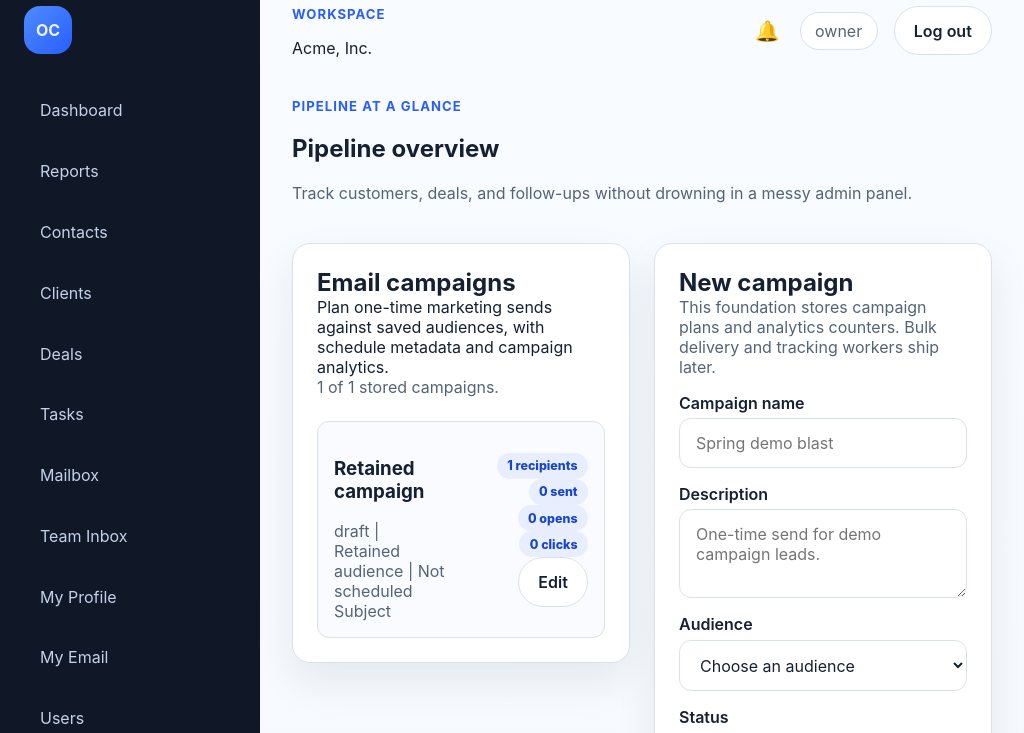
settings marketing email campaigns route › disables only new creation at the server-disclosed capacity
Expected: the text "1 of 1 stored campaigns." is shown, [317,377,499,397]
Click the button "Edit" at (553, 582), box [518,557,588,606]
(page scrolled)
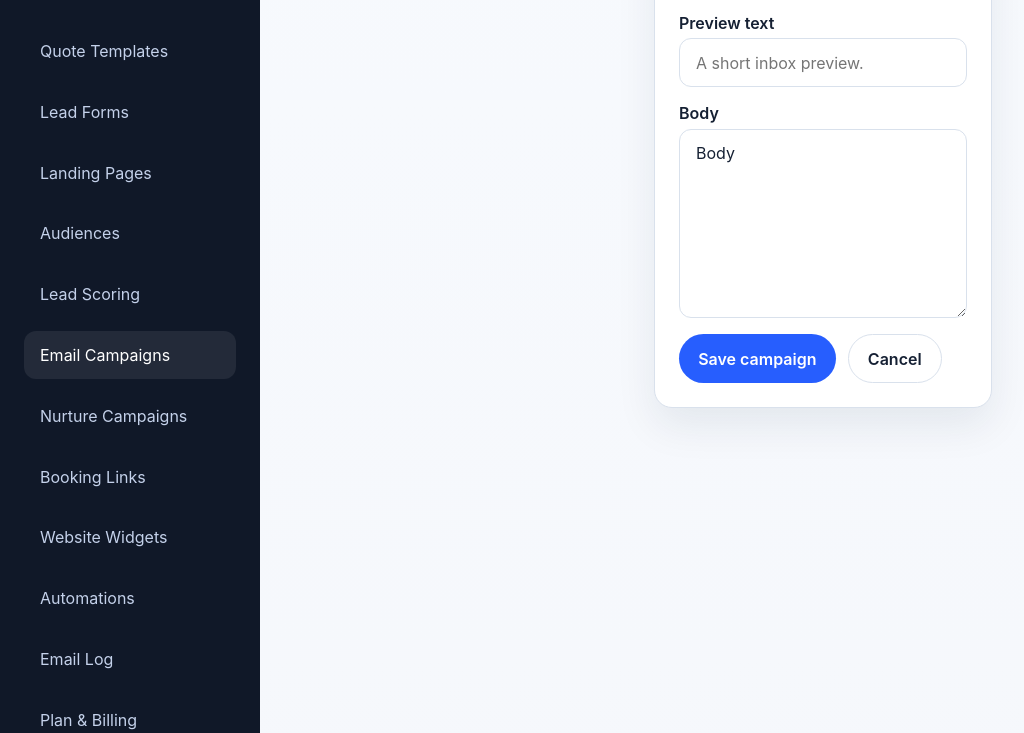
Expected: the button "Save campaign" is enabled, [679,334,836,383]
